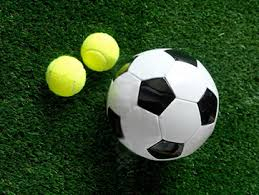ball: (102, 45, 229, 162), (77, 29, 123, 76), (45, 54, 89, 98)
